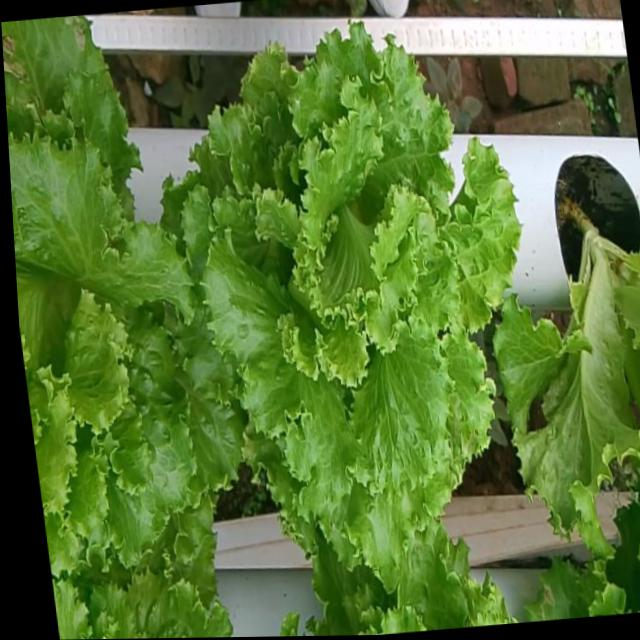Mature: (169, 13, 508, 555), (7, 117, 232, 555)
